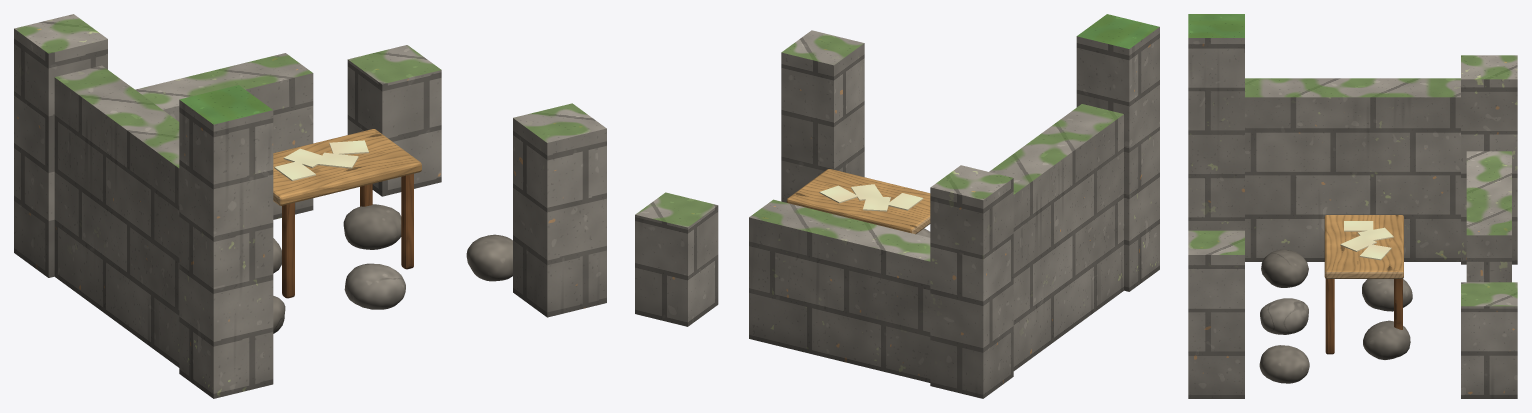
Rendered from gatehouse.glb.
The picture shows the model from 3 angles, left to right: view 1: azimuth 30°, elevation 25°; view 2: azimuth 150°, elevation 25°; view 3: azimuth 270°, elevation 25°; orthographic projection. The views are drawn at different scales.
Parts seen in each view (by area): view 1: Gatehouse; view 2: Gatehouse; view 3: Gatehouse.
Part boxes in pixels (bbox=[...]): Gatehouse: bbox=[14, 14, 606, 398]; Gatehouse: bbox=[635, 14, 1159, 398]; Gatehouse: bbox=[1188, 14, 1517, 398].
Bounding box in the file's own units: 3.3 × 2.23 × 2.9.
Materials: 1 (1 with a texture image).
